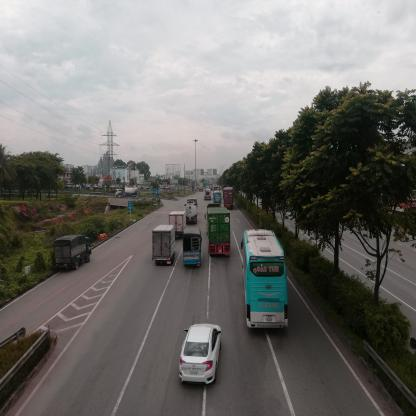bus: (249, 231, 285, 329), (216, 192, 222, 202)
car: (183, 326, 222, 386)
container: (209, 207, 232, 255), (226, 186, 234, 207)
truck: (57, 235, 91, 264), (153, 228, 176, 268), (185, 228, 204, 267), (116, 185, 139, 199), (187, 199, 199, 222), (170, 213, 186, 229)
